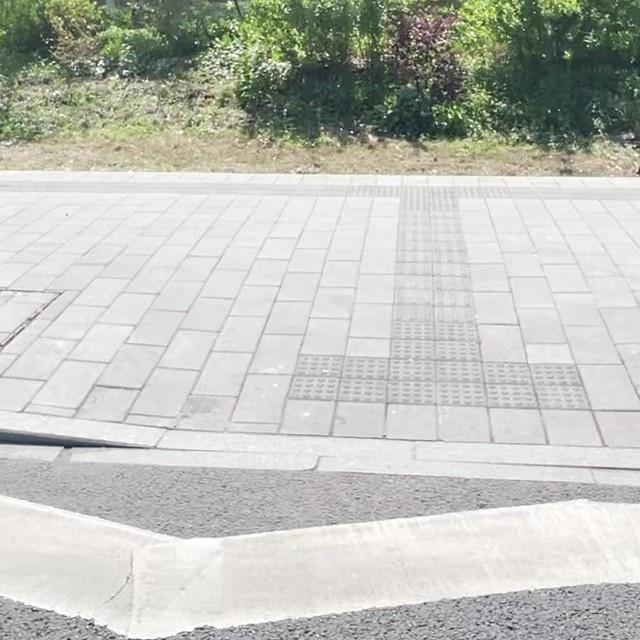curb: (0, 410, 639, 469)
